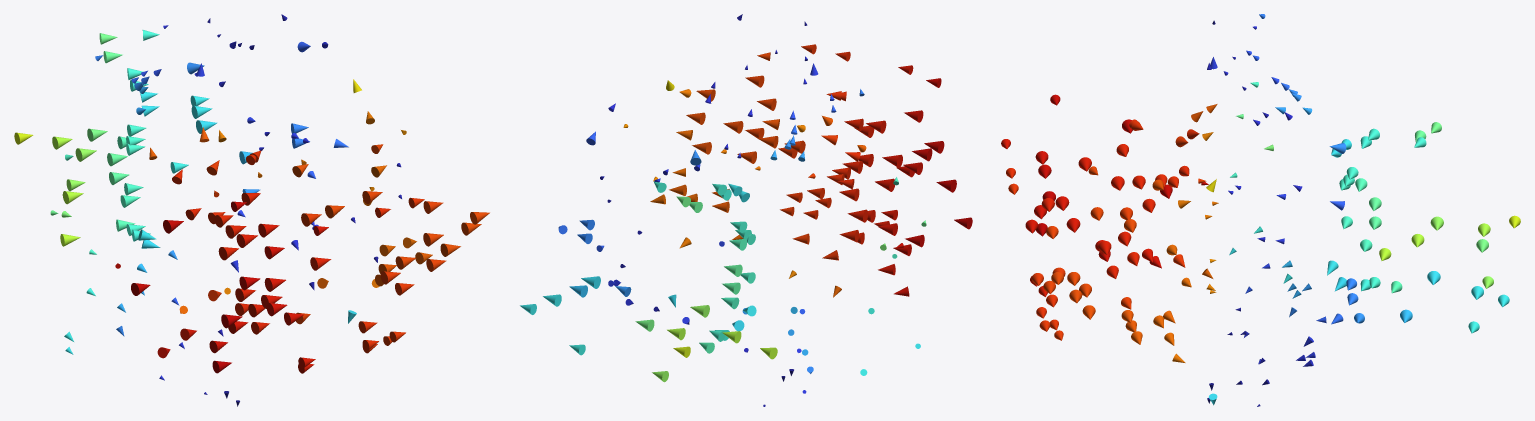
Rendered from LineasCorrienteH2-O2_mh2-2.70_V-0.9.glb.
3 renders of one model, left to right at view 1: azimuth 30°, elevation 25°; view 2: azimuth 150°, elevation 25°; view 3: azimuth 270°, elevation 25°, orthographic. The views are drawn at different scales.
Bounding box in the file's own units: 0.000912 × 0.000995 × 0.00124.
Materials: 2 (2 with a texture image).
